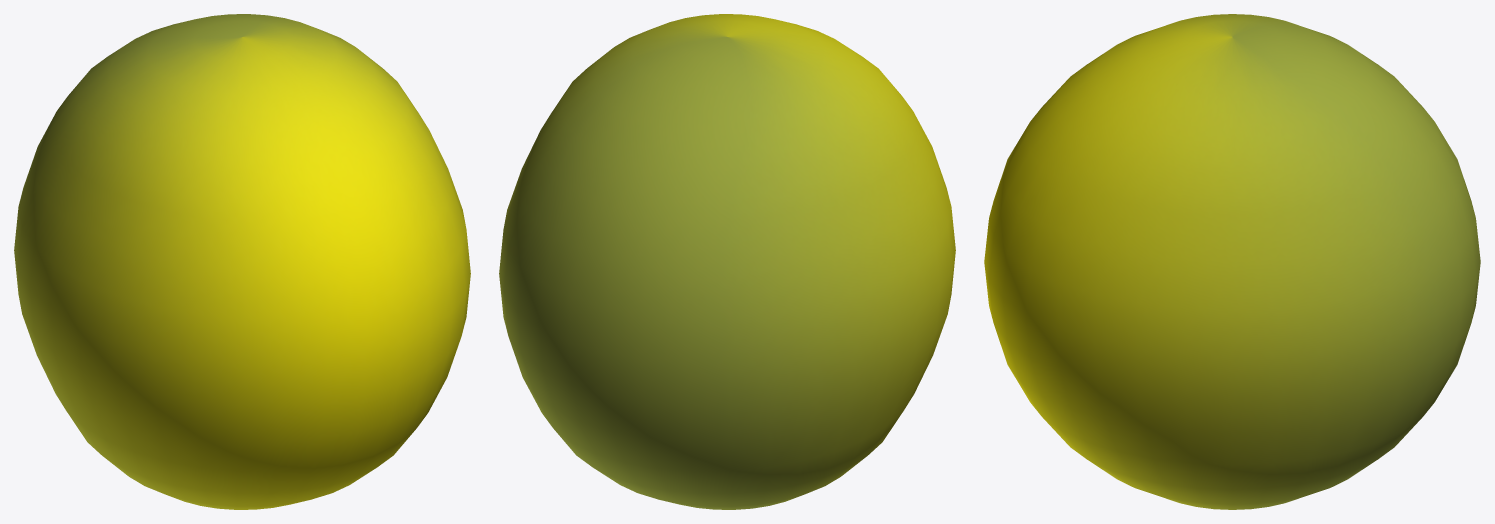
The model's file is eraserDust_Special.FBX.
3 views of the same model, side by side, from view 1: azimuth 30°, elevation 25°; view 2: azimuth 150°, elevation 25°; view 3: azimuth 270°, elevation 25° (orthographic).
Visible parts, largest first — view 1: Sphere001; view 2: Sphere001; view 3: Sphere001.
Part boxes in pixels (<box>): Sphere001: <box>14,14,470,509</box>; Sphere001: <box>499,14,955,509</box>; Sphere001: <box>984,14,1480,509</box>.
Size of the model in its own units: 3.98 by 4.46 by 4.46.
Materials: 1 (1 with a texture image).
